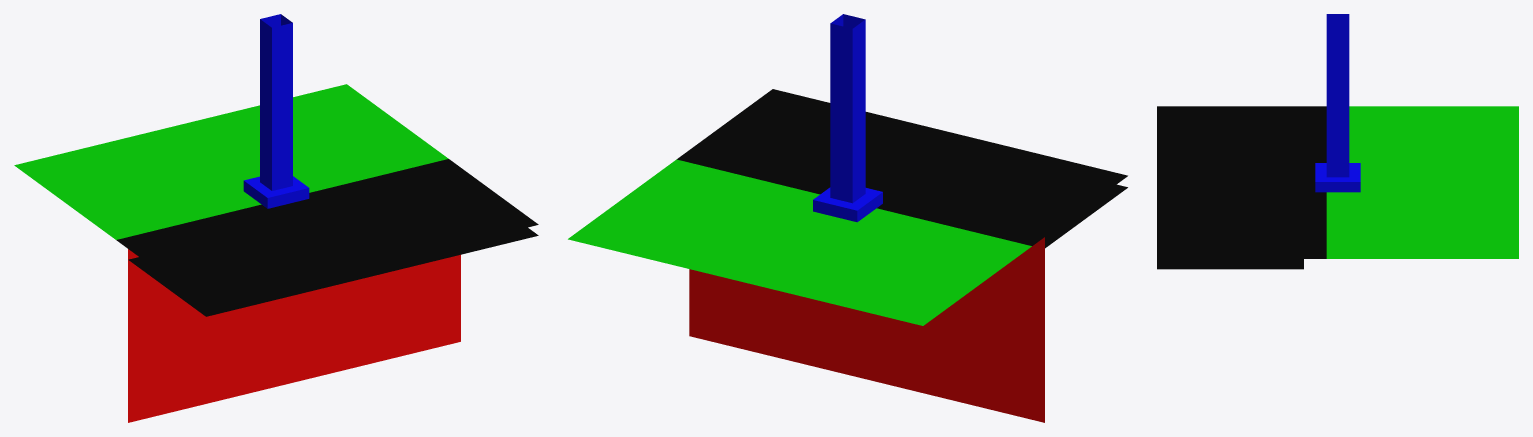
File: None_W_P_E_E_W_P_E_E_BigStrut.fbx
The picture shows the model from 3 angles, left to right: view 1: azimuth 30°, elevation 25°; view 2: azimuth 150°, elevation 25°; view 3: azimuth 270°, elevation 25°; orthographic projection. The views are drawn at different scales.
Parts seen in each view (by area): view 1: None_W_P_E_E_W_P_E_E_BigStrut; view 2: None_W_P_E_E_W_P_E_E_BigStrut; view 3: None_W_P_E_E_W_P_E_E_BigStrut.
Boxes of the visible parts, x1=… form: None_W_P_E_E_W_P_E_E_BigStrut: x1=14, y1=14, x2=538, y2=422; None_W_P_E_E_W_P_E_E_BigStrut: x1=568, y1=14, x2=1127, y2=422; None_W_P_E_E_W_P_E_E_BigStrut: x1=1157, y1=14, x2=1518, y2=269.
Bounding box in the file's own units: 100 × 100 × 100.
